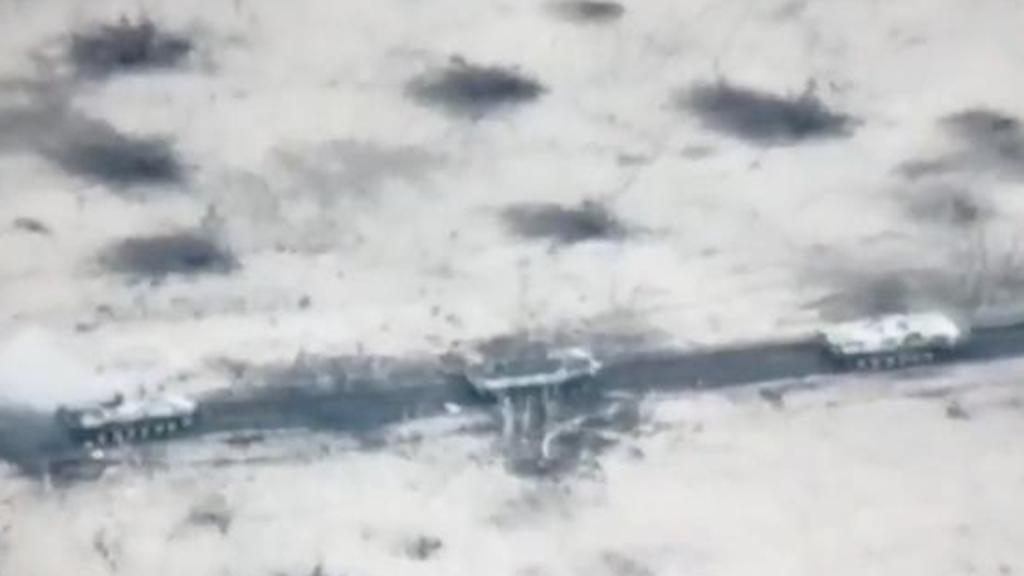APC-IFV: (808, 288, 976, 380), (48, 372, 210, 458), (452, 330, 622, 402)
